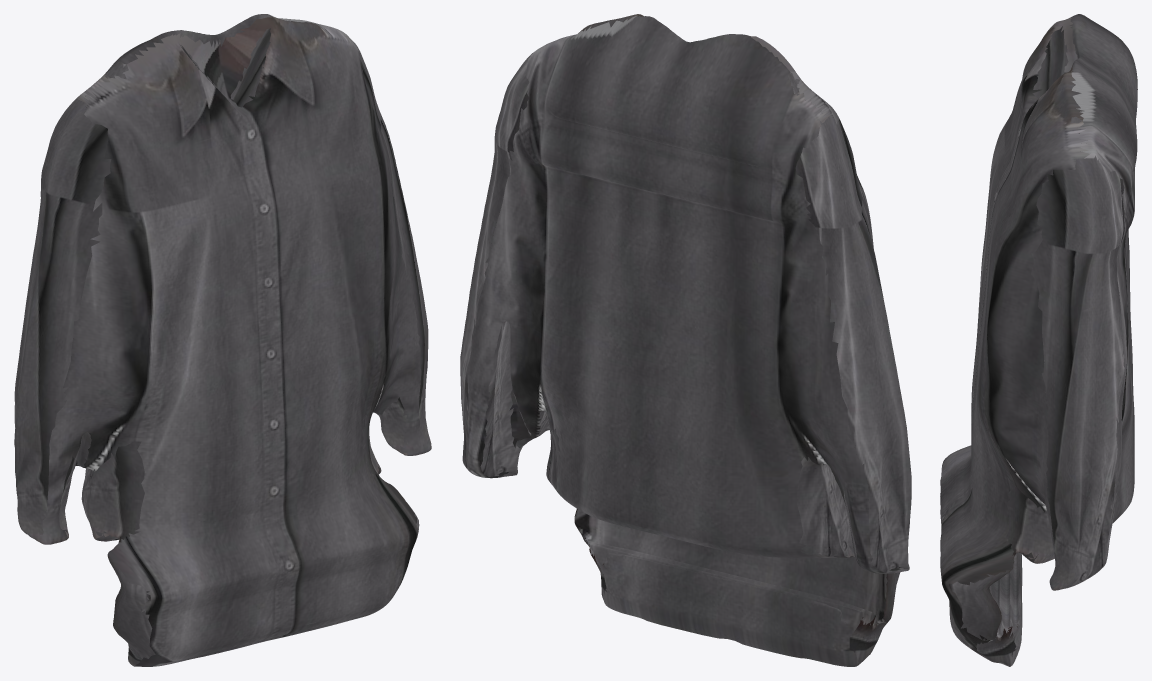
File: NF014-fit-v5.glb
3 views of the same model, side by side, from view 1: azimuth 30°, elevation 25°; view 2: azimuth 150°, elevation 25°; view 3: azimuth 270°, elevation 25° (orthographic). The views are drawn at different scales.
Parts seen in each view (by area): view 1: NF014_worn_photo_fitted; view 2: NF014_worn_photo_fitted; view 3: NF014_worn_photo_fitted.
Part boxes in pixels (x1,y1,x2,y2): NF014_worn_photo_fitted: (14, 14, 431, 666); NF014_worn_photo_fitted: (460, 14, 911, 666); NF014_worn_photo_fitted: (940, 14, 1137, 666).
Size of the model in its own units: 0.5622 by 0.7745 by 0.2409.
3 materials, 3 textured.
